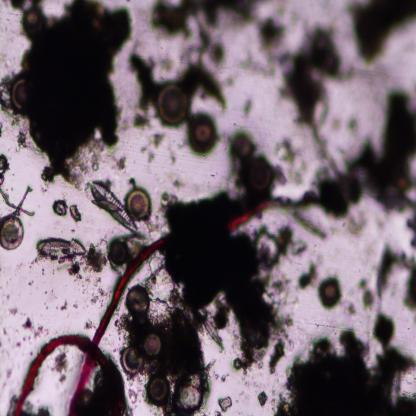Background material: (163, 185, 279, 377), (2, 0, 127, 177), (302, 86, 416, 214), (274, 314, 416, 416), (146, 289, 211, 416), (128, 50, 230, 126), (276, 21, 341, 133), (348, 0, 416, 66), (147, 0, 258, 39), (375, 241, 416, 318), (81, 373, 127, 416), (255, 15, 288, 66), (39, 166, 100, 189), (0, 185, 37, 221), (257, 223, 283, 272), (270, 274, 299, 316), (291, 210, 328, 242), (114, 316, 152, 346), (239, 51, 274, 78), (277, 224, 307, 255), (86, 238, 110, 276), (274, 140, 297, 166), (299, 262, 318, 291), (268, 342, 285, 374), (53, 350, 68, 385), (232, 154, 245, 194), (272, 163, 291, 190), (358, 275, 372, 311), (207, 43, 227, 67), (24, 315, 45, 337), (341, 217, 365, 236), (404, 212, 416, 250), (23, 400, 51, 416), (127, 234, 149, 254), (214, 393, 233, 416), (53, 189, 68, 217), (14, 129, 30, 154), (292, 162, 308, 186), (139, 220, 163, 235), (148, 130, 165, 150), (92, 287, 108, 306), (69, 202, 83, 223), (70, 262, 83, 282), (242, 96, 254, 117), (114, 150, 126, 171), (348, 119, 361, 136), (258, 390, 270, 407), (0, 166, 11, 184), (346, 297, 357, 315), (81, 319, 96, 330), (167, 151, 177, 166), (55, 262, 73, 270), (333, 118, 341, 132), (59, 300, 69, 311), (82, 276, 92, 287), (136, 143, 145, 155), (147, 152, 156, 164), (8, 305, 18, 315), (15, 263, 23, 275), (38, 188, 50, 196), (94, 276, 102, 287), (5, 369, 14, 378), (172, 180, 182, 188), (82, 288, 89, 299), (0, 123, 5, 137), (70, 301, 78, 308), (29, 258, 34, 269), (16, 340, 22, 349), (50, 289, 56, 298), (28, 279, 34, 287), (0, 264, 4, 276), (243, 394, 250, 400), (51, 268, 56, 276), (70, 227, 76, 233), (41, 268, 46, 275), (44, 304, 49, 310), (30, 350, 34, 357), (43, 290, 48, 295), (210, 174, 216, 178), (0, 341, 3, 349), (6, 293, 10, 299), (2, 328, 6, 334), (22, 336, 26, 342)
Cotton: (8, 195, 280, 412)
Diatom: (88, 181, 138, 234), (34, 235, 86, 262), (158, 81, 188, 127), (188, 112, 218, 155), (244, 154, 272, 191), (125, 187, 152, 221), (0, 214, 24, 250), (22, 4, 46, 40), (10, 77, 30, 117), (126, 283, 150, 316), (318, 275, 341, 309), (201, 313, 222, 346), (147, 375, 170, 405), (121, 346, 143, 376), (109, 241, 130, 266), (233, 130, 253, 155), (143, 334, 162, 358), (91, 198, 119, 213)
